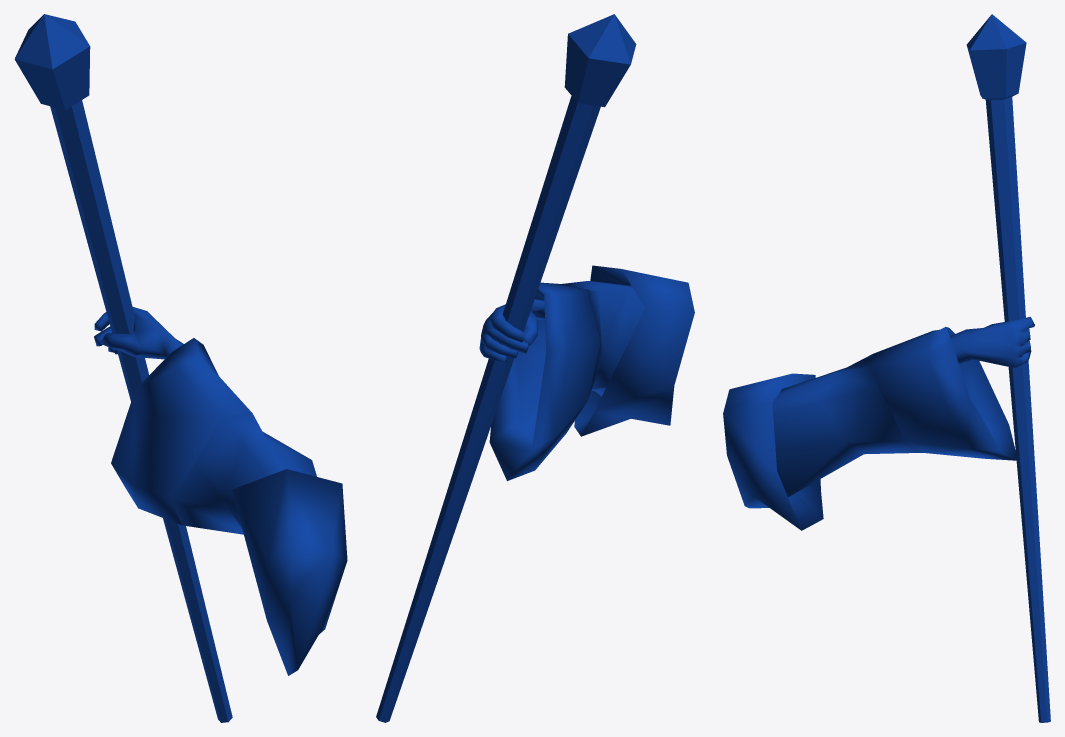
File: arm_000067.obj
3 renders of one model, left to right at view 1: azimuth 30°, elevation 25°; view 2: azimuth 150°, elevation 25°; view 3: azimuth 270°, elevation 25°, orthographic. The views are drawn at different scales.
Visible parts, largest first — view 1: Wizard.002_Plane.000; view 2: Wizard.002_Plane.000; view 3: Wizard.002_Plane.000.
Part boxes in pixels (bbox=[...]): Wizard.002_Plane.000: bbox=[14, 14, 347, 722]; Wizard.002_Plane.000: bbox=[376, 14, 694, 722]; Wizard.002_Plane.000: bbox=[723, 14, 1050, 722].
Bounding box in the file's own units: 0.5508 × 1.69 × 0.8029.
